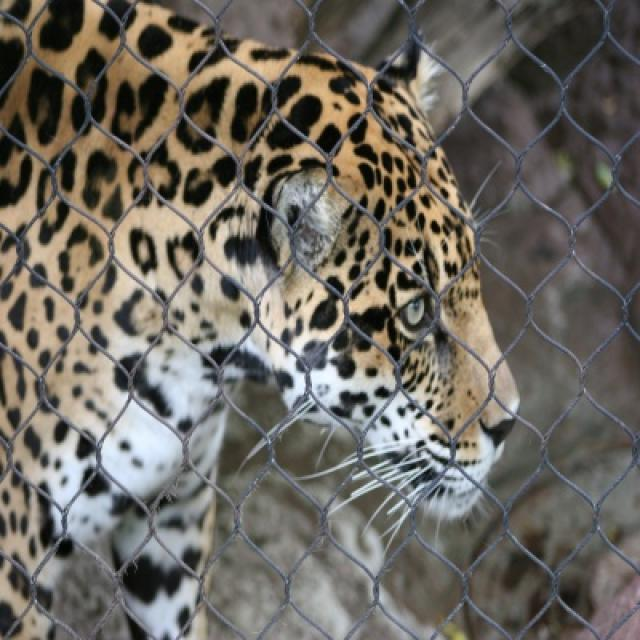Jaguar: (0, 0, 518, 638)
